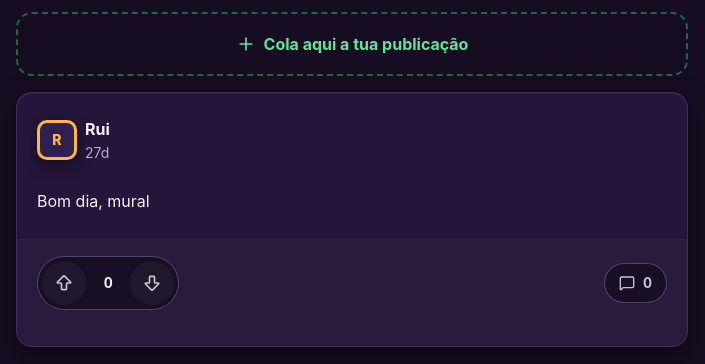
Scenario: HubFeedModule › upvotes optimistically and keeps the server's answer
Click the button named "Upvote" at coordinates (64, 283), box [42,261,86,305]
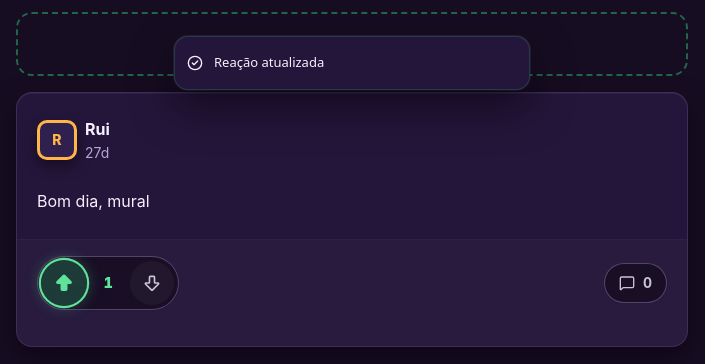
Expected: the button named "Remover upvote" is shown, [41,260,87,306]
Expected: the text "Reação atualizada" is shown, [214,53,324,72]
